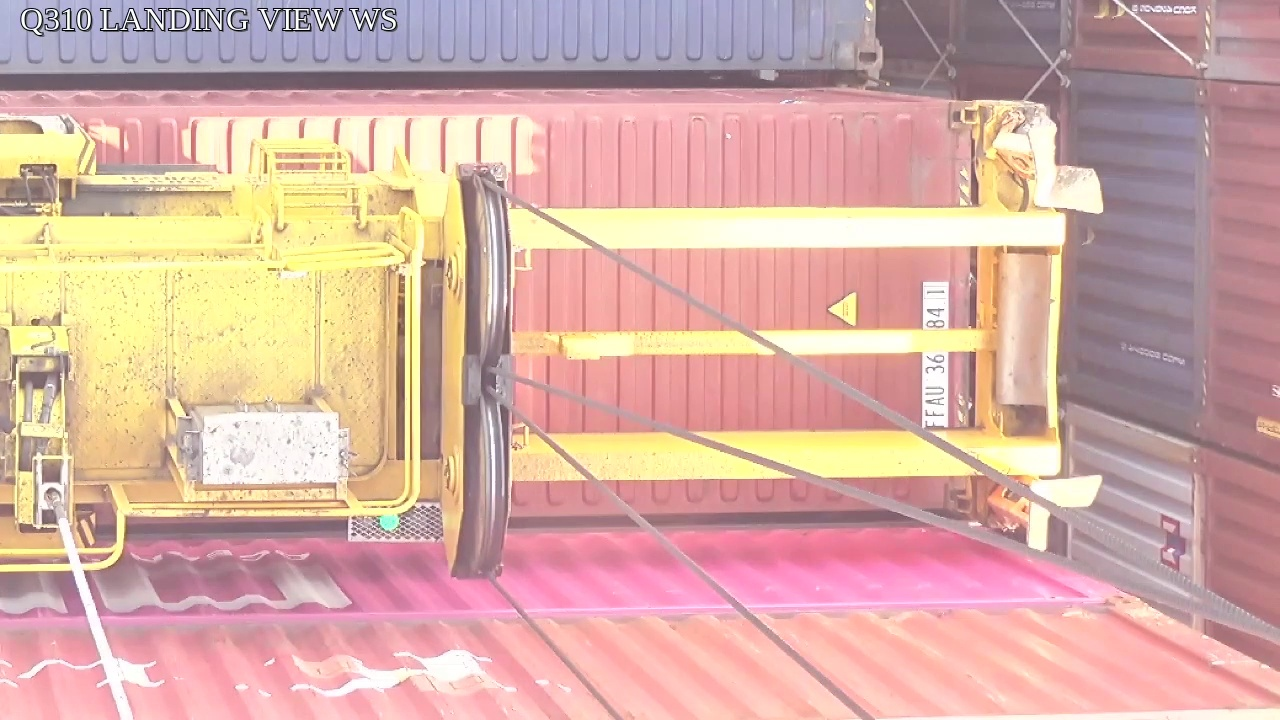right: (440, 161, 517, 581)
